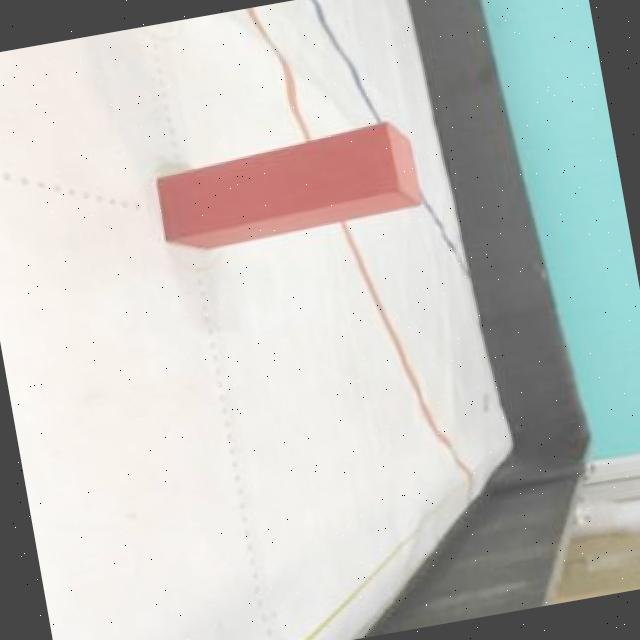redbox: (151, 115, 426, 258)
